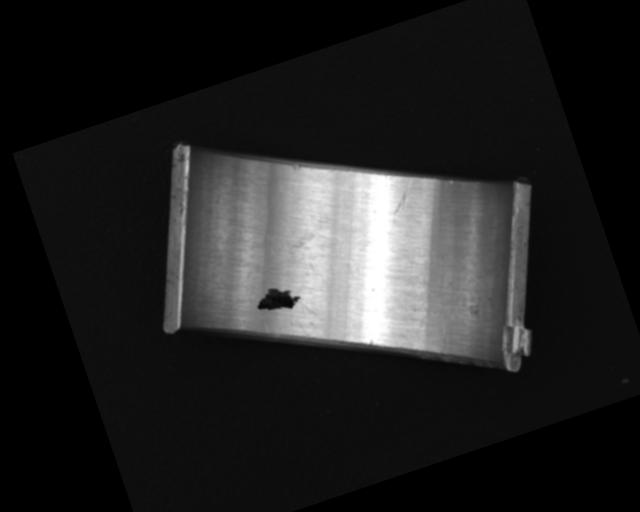blot: (260, 229, 325, 278), (251, 279, 304, 321)
bruise: (290, 161, 300, 172), (367, 337, 376, 346)
nick: (383, 174, 421, 215)
